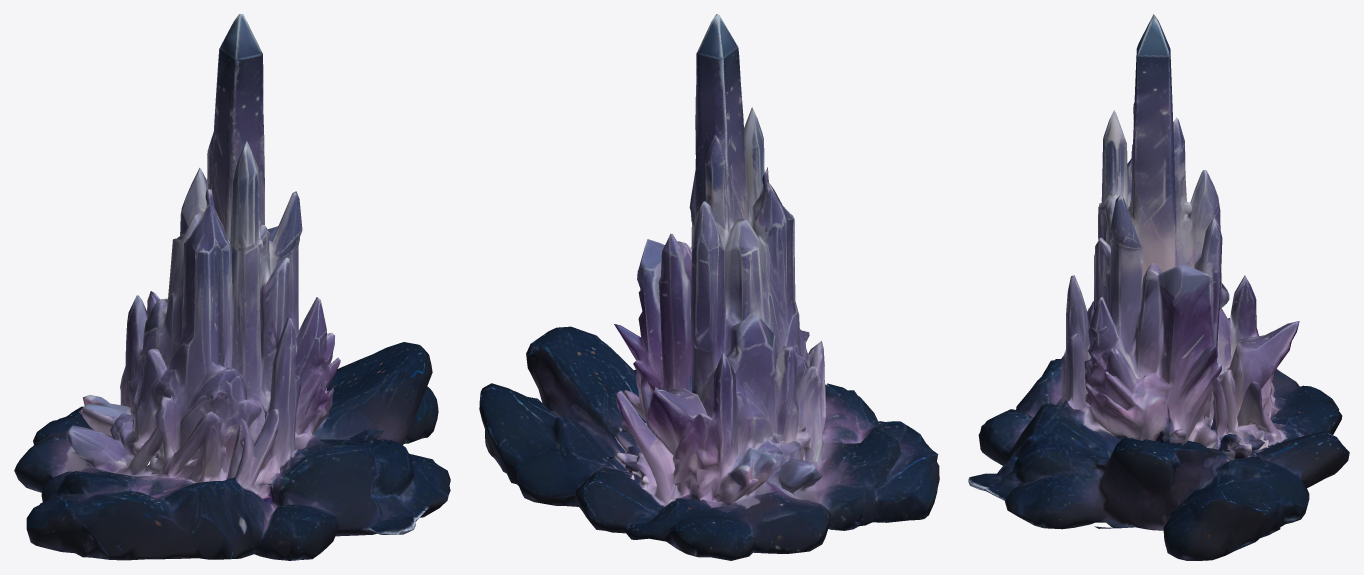
Rendered from TripoModel.glb.
3 renders of one model, left to right at view 1: azimuth 30°, elevation 25°; view 2: azimuth 150°, elevation 25°; view 3: azimuth 270°, elevation 25°, orthographic. The views are drawn at different scales.
Visible parts, largest first — view 1: tripo_node_2e68f434-e770-4238-bfe9-2427f0297f5d; view 2: tripo_node_2e68f434-e770-4238-bfe9-2427f0297f5d; view 3: tripo_node_2e68f434-e770-4238-bfe9-2427f0297f5d.
Boxes of the visible parts, x1,y1,x2,y2 form: tripo_node_2e68f434-e770-4238-bfe9-2427f0297f5d: (14, 14, 450, 560); tripo_node_2e68f434-e770-4238-bfe9-2427f0297f5d: (479, 14, 939, 560); tripo_node_2e68f434-e770-4238-bfe9-2427f0297f5d: (968, 14, 1349, 560).
Size of the model in its own units: 0.9501 by 1 by 0.7676.
Materials: 1 (1 with a texture image).
